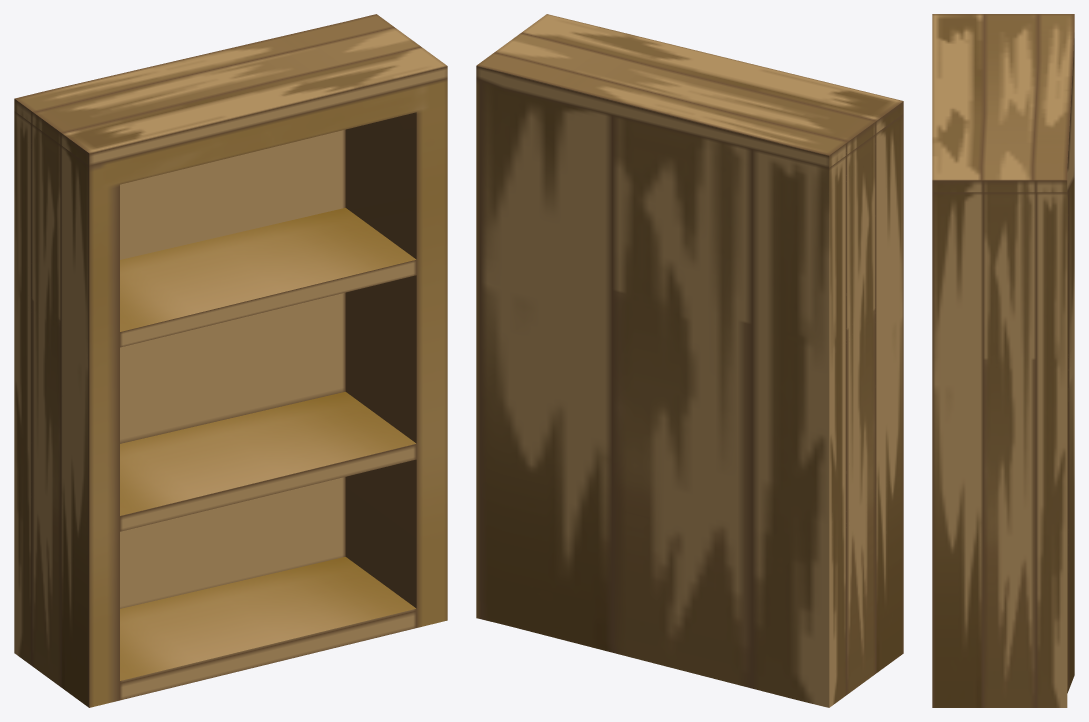
The model's file is bookshalf1.FBX.
3 views of the same model, side by side, from view 1: azimuth 30°, elevation 25°; view 2: azimuth 150°, elevation 25°; view 3: azimuth 270°, elevation 25° (orthographic). The views are drawn at different scales.
Parts seen in each view (by area): view 1: Object001; view 2: Object001; view 3: Object001.
Boxes of the visible parts, box(x1,y1,x2,y2) form: Object001: box(14, 14, 447, 707); Object001: box(476, 14, 903, 707); Object001: box(932, 14, 1074, 707).
Bounding box in the file's own units: 256 × 379 × 92.65.
